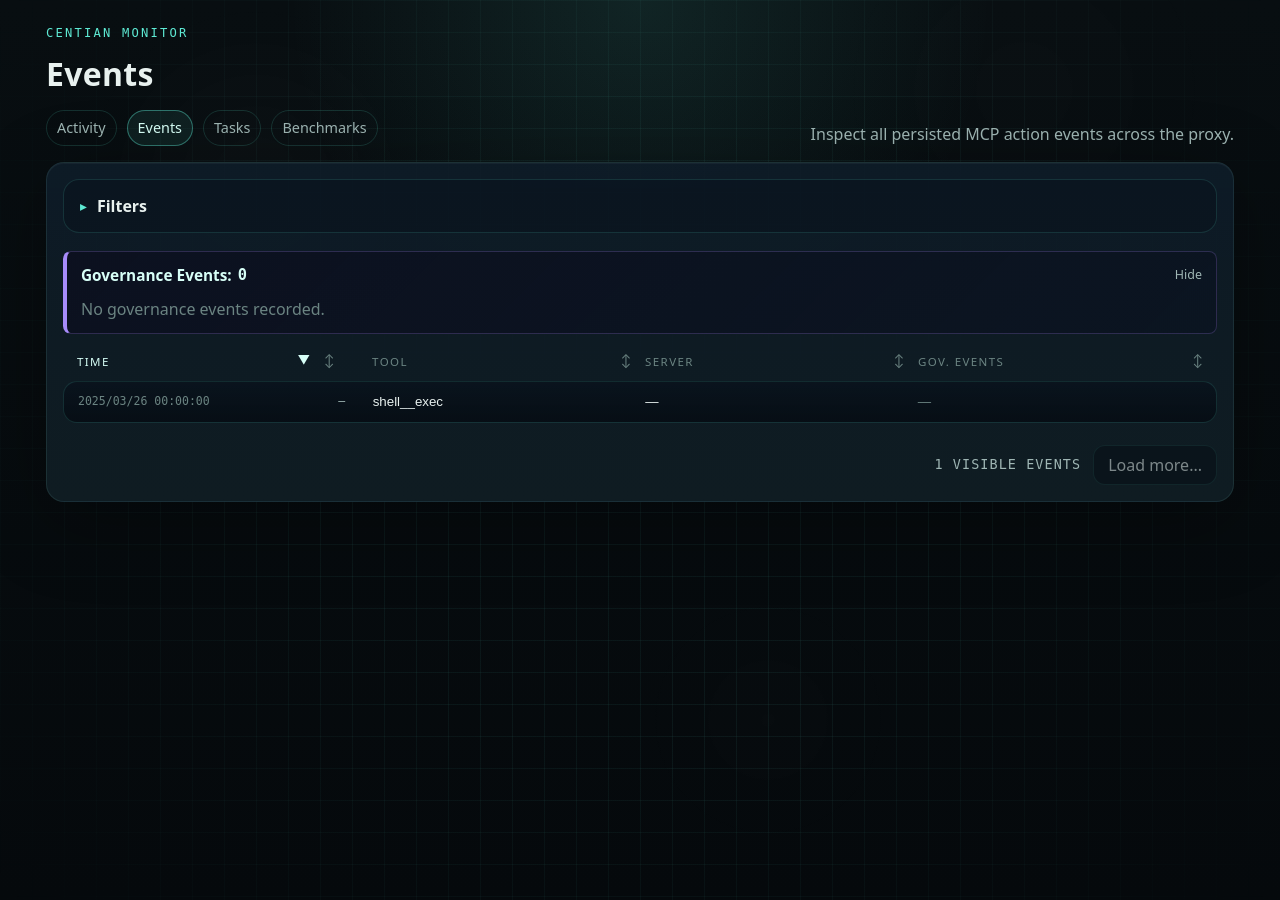
Scenario: event list › expands rows to show payload, related task links, and session quick filters
What coordinates should you click on to do the following:
click the button "2025/03/26 00:00:00 — shell__exec — —"
I would click on:
 (144, 401)
Its box is [64,382,1216,422].
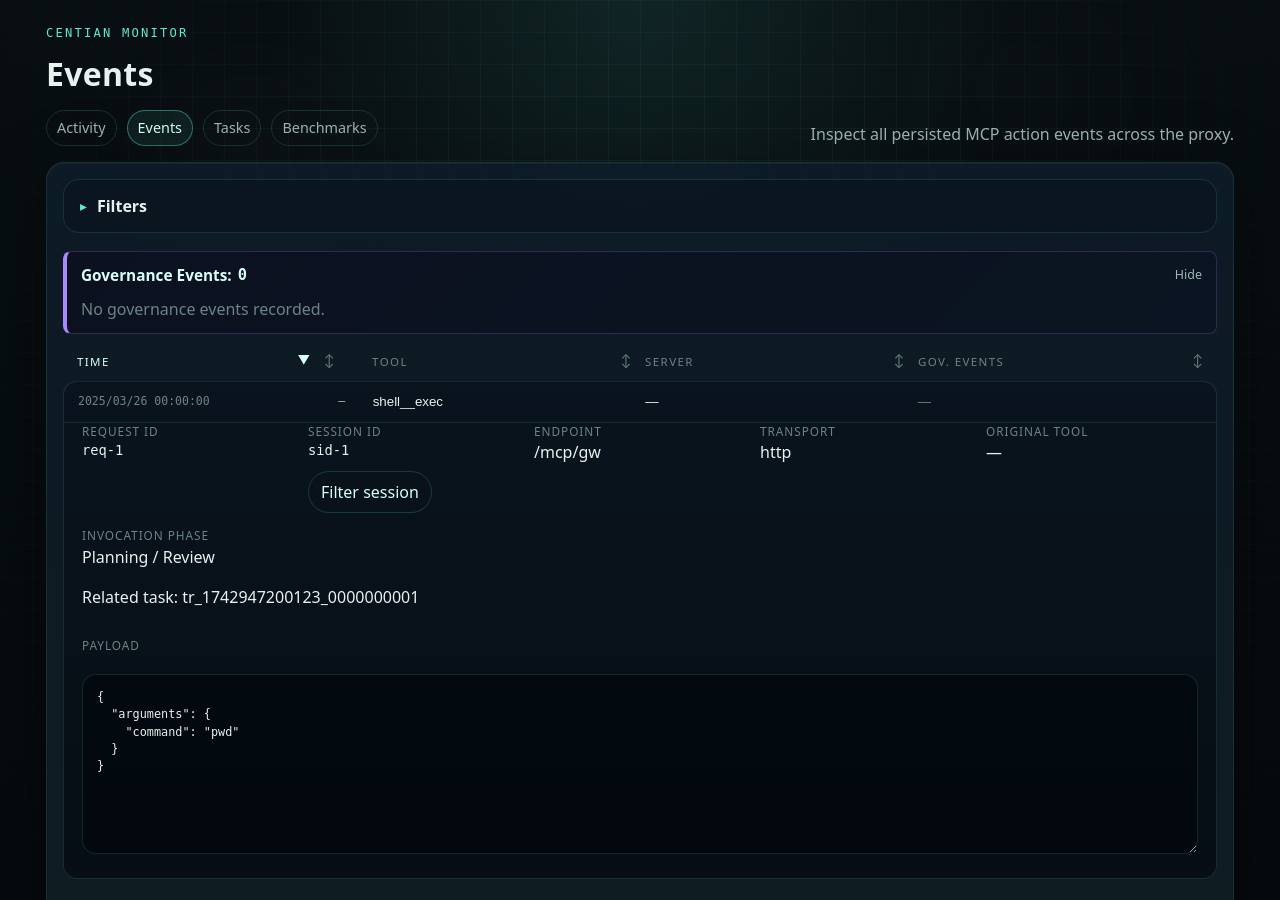
Expected: the text "Related task: tr_1742947200123_0000000001" is shown, [82,586,419,608]
Expected: the text box showing "\"command\": \"pwd\"" is shown, [82,674,1198,854]
Expected: the text "Planning / Review" is shown, [82,546,215,568]
What coordinates should you click on to do the following:
click the button "Filter session"
I would click on:
 (370, 492)
Its box is [308,471,432,513].
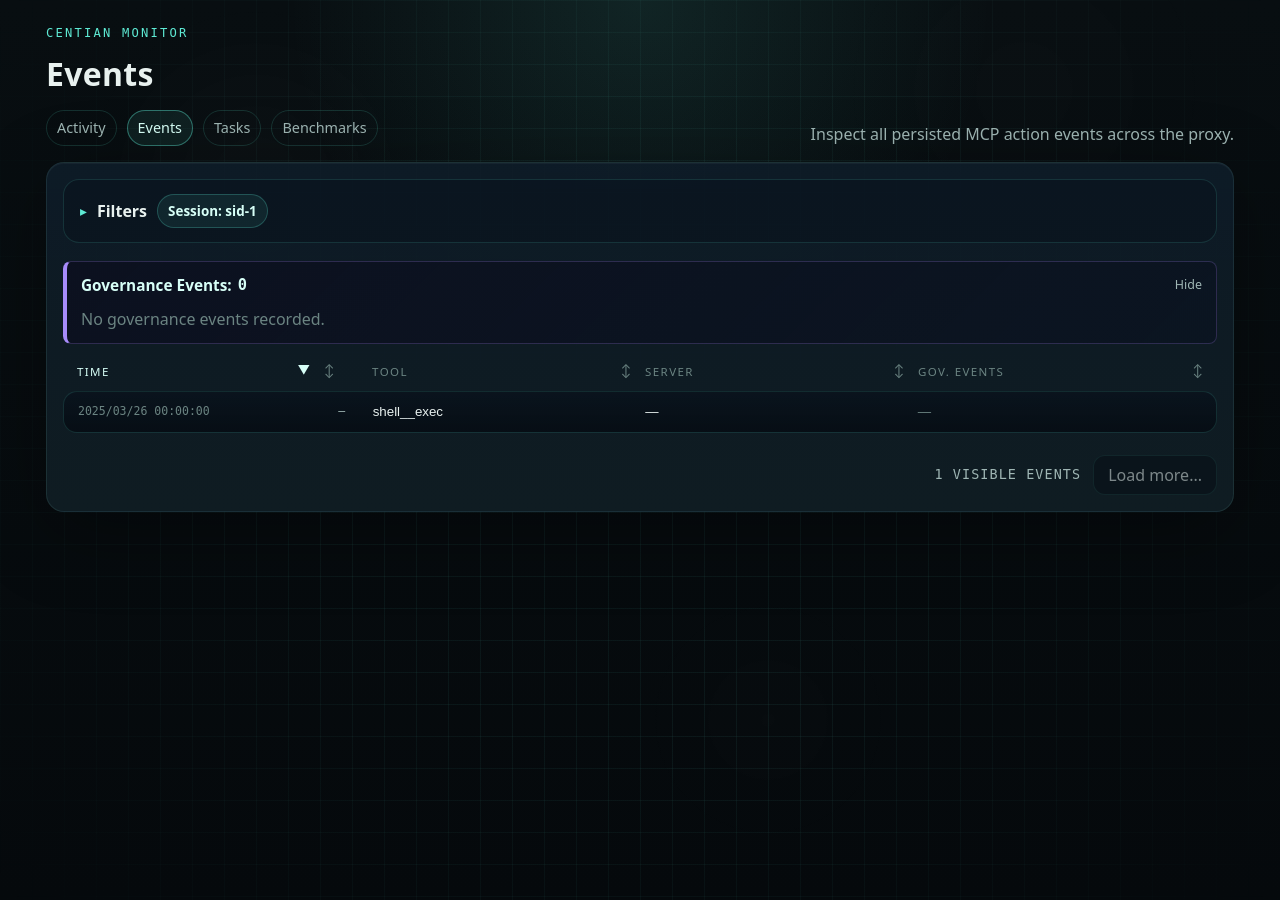
Expected: the text "Session: sid-1" is shown, [157,194,268,228]
